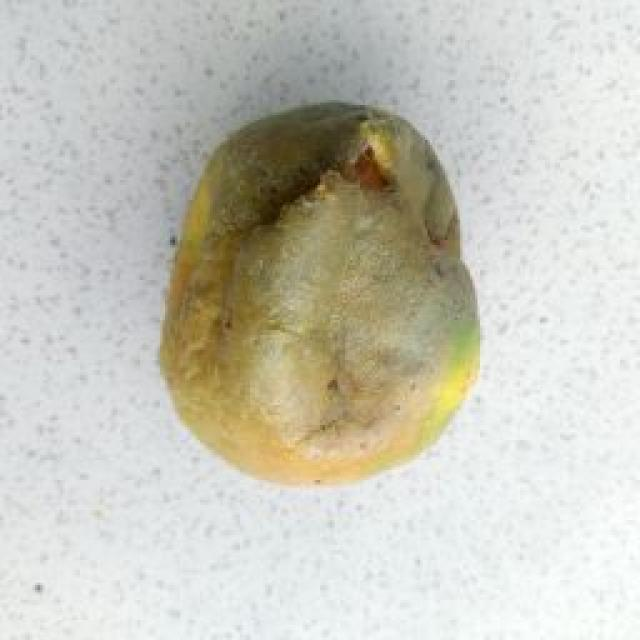Bad_Orange: (160, 102, 479, 483)
